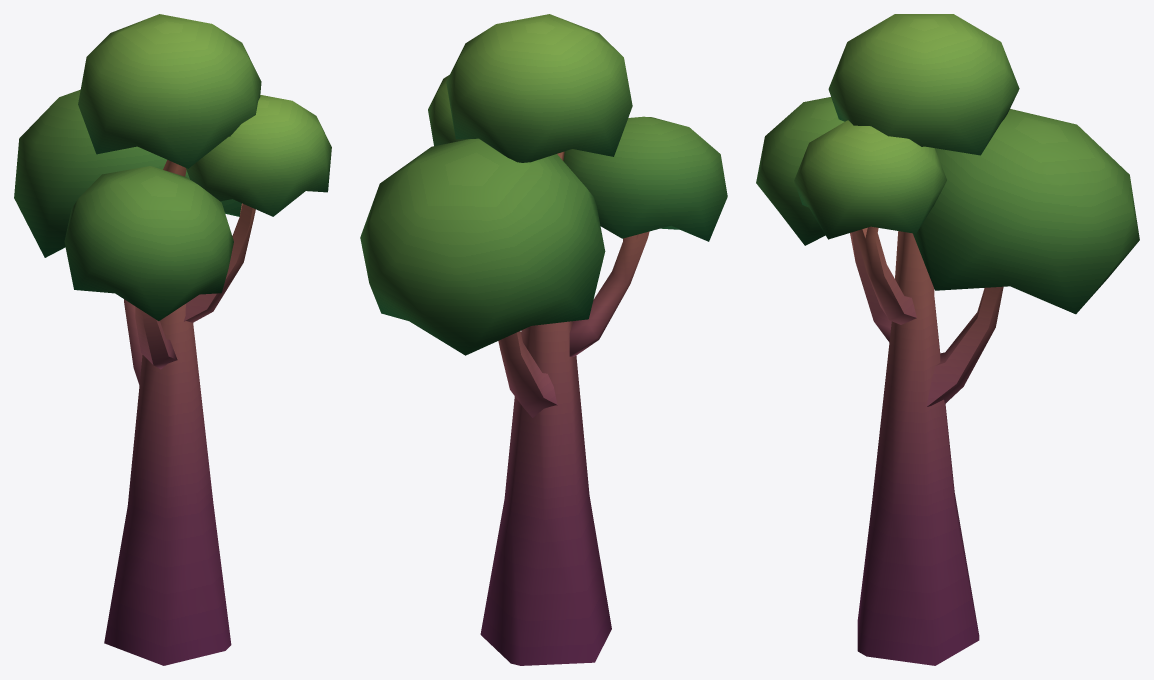
Rendered from Oak2.fbx.
3 renders of one model, left to right at view 1: azimuth 30°, elevation 25°; view 2: azimuth 150°, elevation 25°; view 3: azimuth 270°, elevation 25°, orthographic.
Parts seen in each view (by area): view 1: Circle; view 2: Circle; view 3: Circle.
Part boxes in pixels (x1=…): Circle: x1=14, y1=14, x2=331, y2=665; Circle: x1=360, y1=14, x2=727, y2=665; Circle: x1=756, y1=14, x2=1139, y2=665.
Size of the model in its own units: 433 by 982 by 552.
